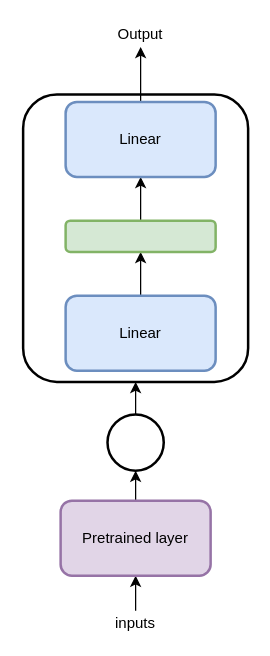
Some shapes in this 270 by 656 pixel diagram are drawn without their labels. Each missing label, with the centre of its shape:
"Global Pool" goes at (x=135, y=441).
"PRelu" goes at (x=140, y=235).
